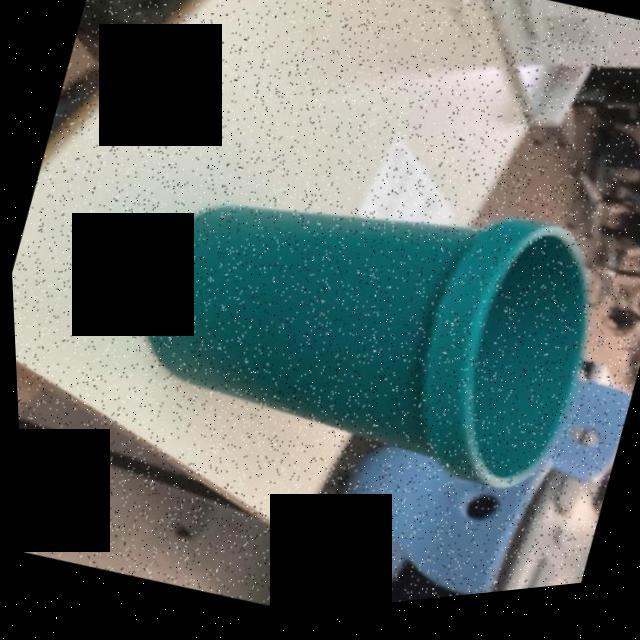bin: (76, 95, 640, 562)
